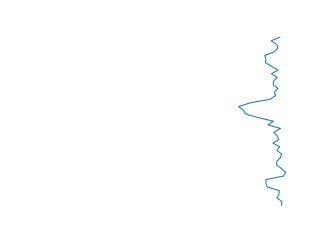interdistributaryEstuary: (236, 36, 292, 207)
